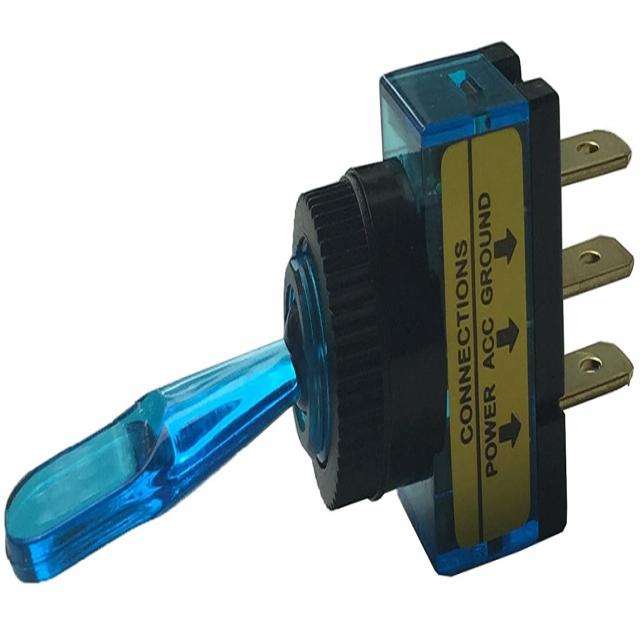toggle switch: (5, 151, 447, 587)
